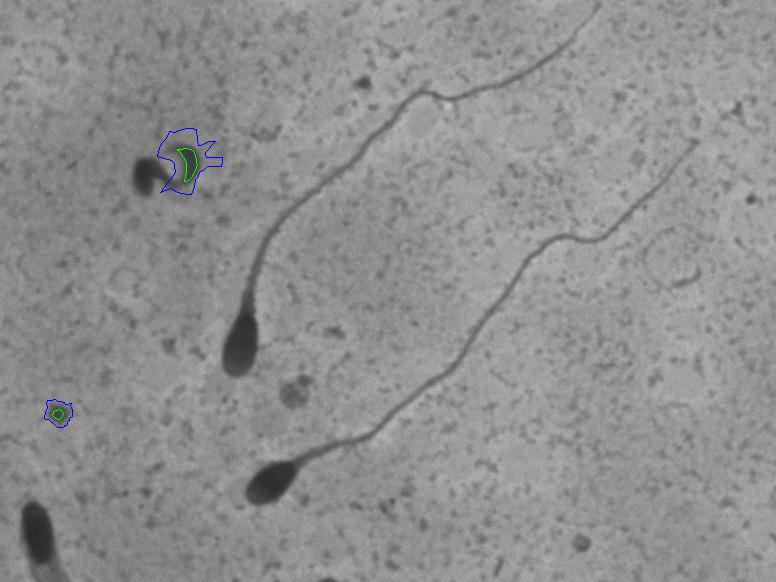Abnormal: (211, 9, 605, 395)
Normal: (219, 110, 726, 527)
